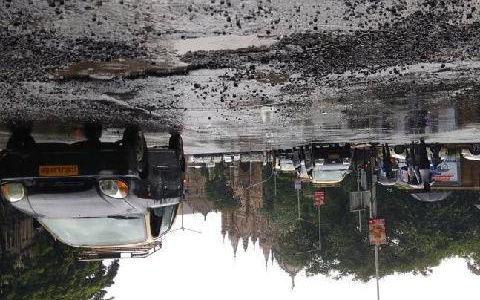pothole: (50, 54, 201, 83), (167, 32, 284, 62)
